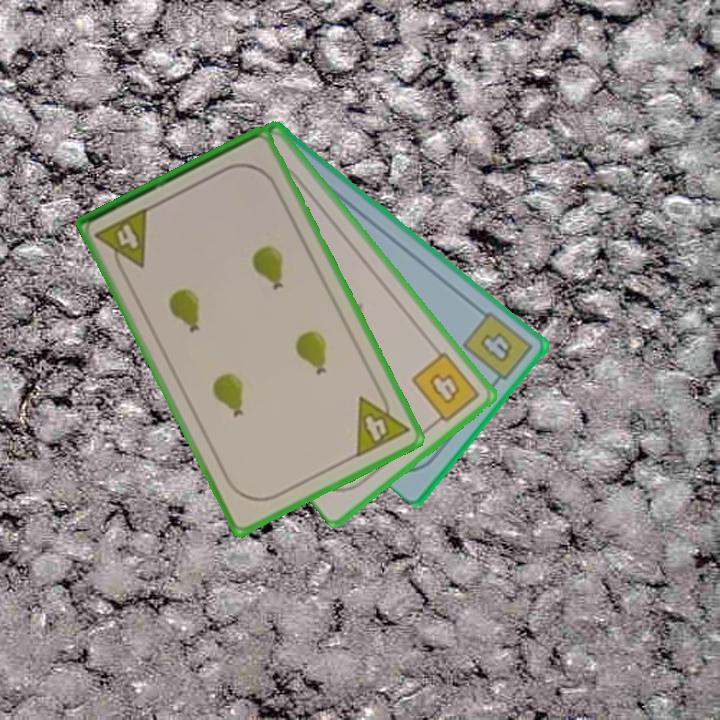4b: (459, 307, 536, 390), (407, 348, 483, 429)
4p: (352, 384, 412, 461), (92, 204, 152, 278)
